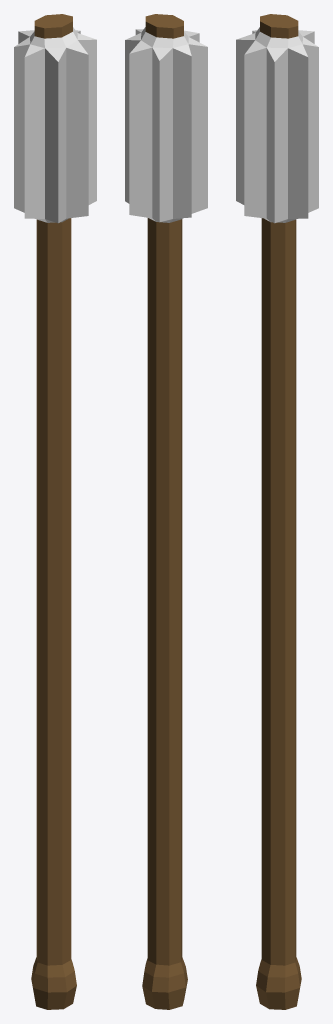
The model's file is Mace.fbx.
3 renders of one model, left to right at view 1: azimuth 30°, elevation 25°; view 2: azimuth 150°, elevation 25°; view 3: azimuth 330°, elevation 25°, orthographic.
Parts seen in each view (by area): view 1: Mace; view 2: Mace; view 3: Mace.
Part boxes in pixels (x1=…): Mace: x1=14, y1=14, x2=96, y2=1009; Mace: x1=125, y1=14, x2=207, y2=1009; Mace: x1=236, y1=14, x2=318, y2=1009.
Size of the model in its own units: 9.53 by 124 by 9.13.
